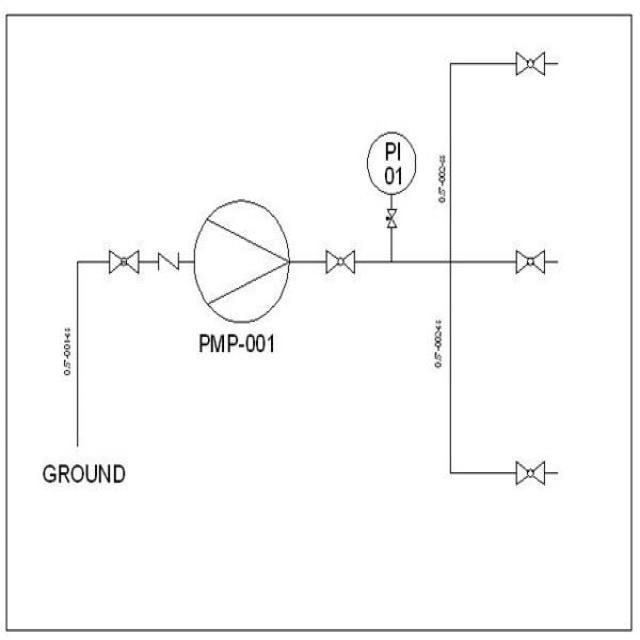Ball Valve: (505, 37, 553, 90), (312, 234, 362, 280), (509, 444, 548, 494), (99, 242, 144, 280), (504, 240, 548, 278)
Check Valve: (152, 243, 187, 282)
Gate Valve: (383, 201, 403, 245)
